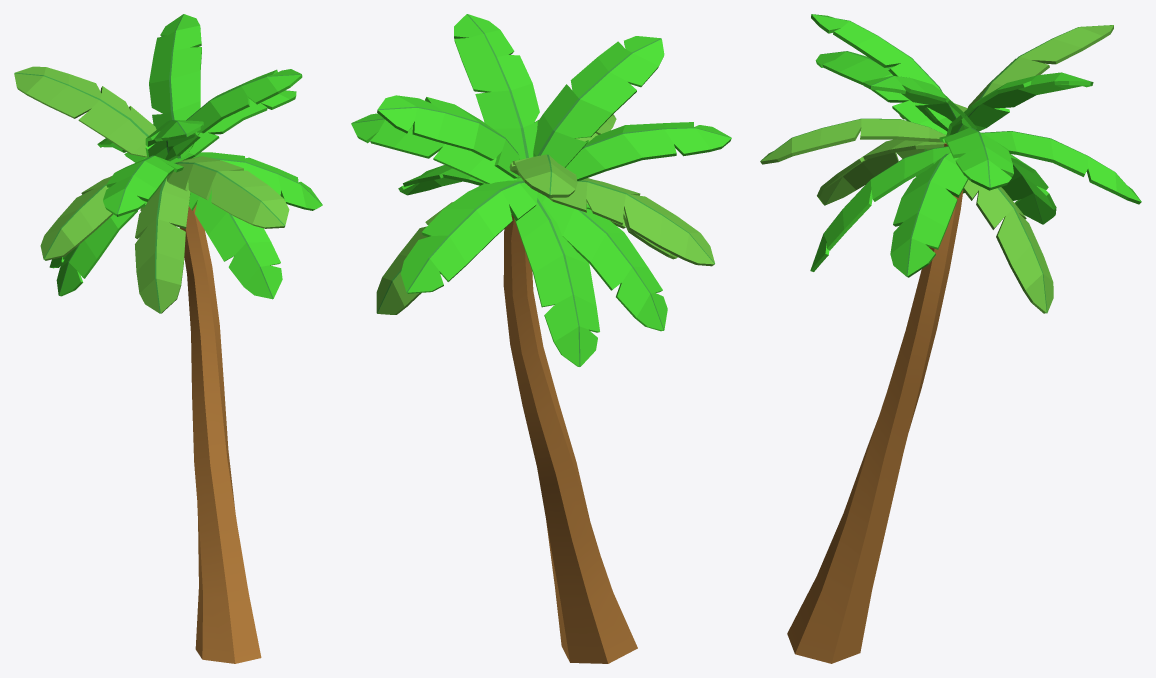
The model's file is low_poly_coconut_1.glb.
3 renders of one model, left to right at view 1: azimuth 30°, elevation 25°; view 2: azimuth 150°, elevation 25°; view 3: azimuth 270°, elevation 25°, orthographic. The views are drawn at different scales.
Visible parts, largest first — view 1: Trunk3_0, Coconut Leaves.038_9, Coconut Leaves.041_12, Coconut Leaves.042_13, Coconut Leaves.032_3, Coconut Leaves.043_14, Coconut Leaves.040_11, Coconut Leaves.035_6, Coconut Leaves.030_1, Coconut Leaves.039_10, Coconut Leaves.037_8, Coconut Leaves.031_2 (+1 smaller); view 2: Trunk3_0, Coconut Leaves.034_5, Coconut Leaves.033_4, Coconut Leaves.036_7, Coconut Leaves.040_11, Coconut Leaves.039_10, Coconut Leaves.035_6, Coconut Leaves.030_1, Coconut Leaves.042_13, Coconut Leaves.031_2, Coconut Leaves.038_9, Coconut Leaves.044_15 (+1 smaller); view 3: Trunk3_0, Coconut Leaves.037_8, Coconut Leaves.044_15, Coconut Leaves.032_3, Coconut Leaves.043_14, Coconut Leaves.033_4, Coconut Leaves.042_13, Coconut Leaves.038_9, Coconut Leaves.034_5, Coconut Leaves.031_2, Coconut Leaves.041_12, Coconut Leaves.030_1 (+2 smaller).
Boxes of the visible parts, left/top/right/bottom form: Trunk3_0: left=180, top=205, right=261, bottom=663; Coconut Leaves.038_9: left=14, top=66, right=156, bottom=157; Coconut Leaves.041_12: left=135, top=178, right=190, bottom=313; Coconut Leaves.042_13: left=149, top=14, right=201, bottom=158; Coconut Leaves.032_3: left=166, top=156, right=289, bottom=228; Coconut Leaves.043_14: left=189, top=157, right=282, bottom=299; Coconut Leaves.040_11: left=165, top=69, right=302, bottom=161; Coconut Leaves.035_6: left=40, top=176, right=163, bottom=260; Coconut Leaves.030_1: left=103, top=155, right=183, bottom=216; Coconut Leaves.039_10: left=56, top=200, right=146, bottom=296; Coconut Leaves.037_8: left=194, top=152, right=322, bottom=210; Coconut Leaves.031_2: left=170, top=90, right=296, bottom=162; Trunk3_0: left=503, top=215, right=637, bottom=663; Coconut Leaves.034_5: left=533, top=36, right=664, bottom=167; Coconut Leaves.033_4: left=400, top=180, right=537, bottom=293; Coconut Leaves.036_7: left=514, top=195, right=599, bottom=366; Coconut Leaves.040_11: left=454, top=14, right=539, bottom=180; Coconut Leaves.039_10: left=537, top=192, right=667, bottom=331; Coconut Leaves.035_6: left=546, top=178, right=714, bottom=266; Coconut Leaves.030_1: left=565, top=122, right=731, bottom=180; Coconut Leaves.042_13: left=377, top=95, right=520, bottom=178; Coconut Leaves.031_2: left=351, top=113, right=516, bottom=183; Coconut Leaves.038_9: left=509, top=154, right=577, bottom=197; Coconut Leaves.044_15: left=376, top=202, right=511, bottom=314; Trunk3_0: left=787, top=143, right=963, bottom=663; Coconut Leaves.037_8: left=890, top=153, right=968, bottom=277; Coconut Leaves.044_15: left=963, top=179, right=1053, bottom=313; Coconut Leaves.032_3: left=760, top=118, right=946, bottom=164; Coconut Leaves.043_14: left=810, top=146, right=950, bottom=271; Coconut Leaves.033_4: left=981, top=131, right=1141, bottom=204; Coconut Leaves.042_13: left=946, top=72, right=1093, bottom=135; Coconut Leaves.038_9: left=967, top=25, right=1113, bottom=108; Coconut Leaves.034_5: left=811, top=14, right=951, bottom=131; Coconut Leaves.031_2: left=939, top=127, right=1013, bottom=190; Coconut Leaves.041_12: left=817, top=139, right=945, bottom=205; Coconut Leaves.030_1: left=815, top=51, right=947, bottom=134.
Size of the model in its own units: 15.08 by 27.66 by 15.6.
